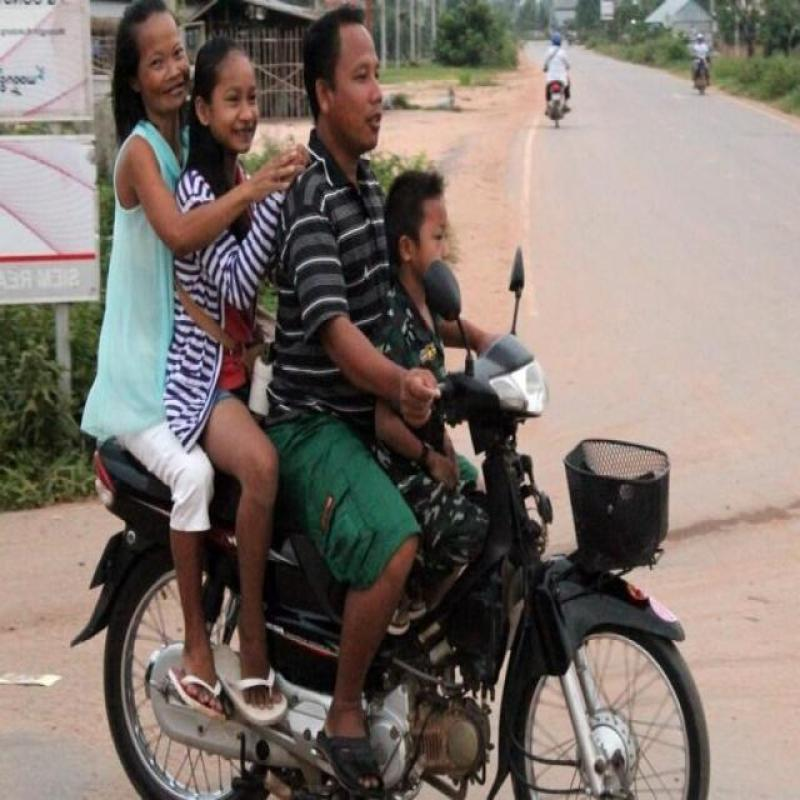nohelmet: (288, 8, 414, 174)
